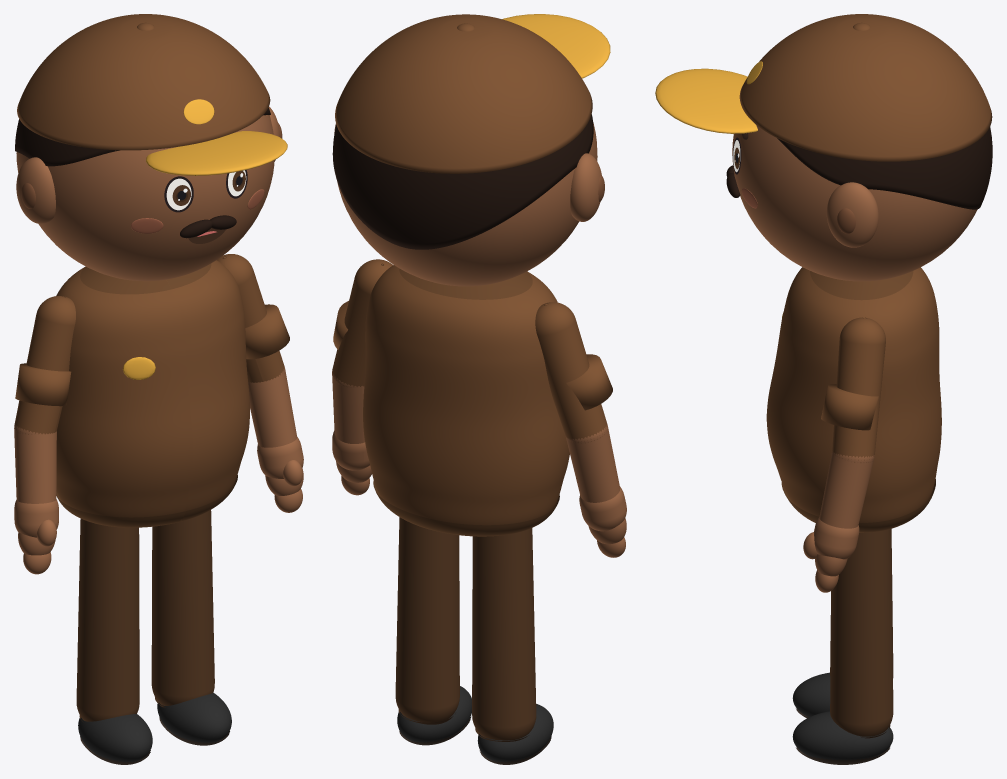
Rendered from bezorger.glb.
3 views of the same model, side by side, from view 1: azimuth 30°, elevation 25°; view 2: azimuth 150°, elevation 25°; view 3: azimuth 270°, elevation 25° (orthographic).
Parts seen in each view (by area): view 1: bezorger_romp, bezorger_pet, bezorger_hoofd, bezorger_been_R, bezorger_been_L, bezorger_pet_klep, bezorger_bovenarm_R, bezorger_onderarm_R, bezorger_schoen_R, bezorger_onderarm_L, bezorger_schoen_L, bezorger_bovenarm_L (+11 smaller); view 2: bezorger_romp, bezorger_pet, bezorger_haar, bezorger_been_R, bezorger_been_L, bezorger_hoofd, bezorger_bovenarm_R, bezorger_pet_klep, bezorger_bovenarm_L, bezorger_onderarm_R, bezorger_schoen_R, bezorger_romp_halsboord (+8 smaller); view 3: bezorger_pet, bezorger_romp, bezorger_hoofd, bezorger_been_L, bezorger_haar, bezorger_pet_klep, bezorger_bovenarm_L, bezorger_schoen_L, bezorger_onderarm_L, bezorger_oor_L, bezorger_mouwzoom_L, bezorger_romp_halsboord (+3 smaller).
Boxes of the visible parts, x1=… form: bezorger_romp: x1=56, y1=260, x2=249, y2=517; bezorger_pet: x1=17, y1=14, x2=270, y2=150; bezorger_hoofd: x1=16, y1=115, x2=274, y2=281; bezorger_been_R: x1=76, y1=519, x2=139, y2=721; bezorger_been_L: x1=151, y1=510, x2=214, y2=705; bezorger_pet_klep: x1=146, y1=131, x2=287, y2=175; bezorger_bovenarm_R: x1=14, y1=296, x2=75, y2=434; bezorger_onderarm_R: x1=14, y1=427, x2=56, y2=503; bezorger_schoen_R: x1=78, y1=714, x2=152, y2=762; bezorger_onderarm_L: x1=248, y1=370, x2=297, y2=447; bezorger_schoen_L: x1=157, y1=693, x2=231, y2=742; bezorger_bovenarm_L: x1=217, y1=254, x2=284, y2=382; bezorger_romp: x1=363, y1=265, x2=569, y2=525; bezorger_pet: x1=335, y1=14, x2=592, y2=173; bezorger_haar: x1=332, y1=114, x2=593, y2=249; bezorger_been_R: x1=472, y1=528, x2=536, y2=740; bezorger_been_L: x1=395, y1=517, x2=459, y2=722; bezorger_hoofd: x1=337, y1=123, x2=597, y2=286; bezorger_bovenarm_R: x1=535, y1=302, x2=607, y2=443; bezorger_pet_klep: x1=502, y1=14, x2=610, y2=78; bezorger_bovenarm_L: x1=332, y1=259, x2=392, y2=386; bezorger_onderarm_R: x1=566, y1=427, x2=620, y2=502; bezorger_schoen_R: x1=477, y1=704, x2=553, y2=762; bezorger_romp_halsboord: x1=399, y1=268, x2=532, y2=299; bezorger_pet: x1=739, y1=14, x2=992, y2=161; bezorger_romp: x1=766, y1=267, x2=941, y2=522; bezorger_hoofd: x1=732, y1=125, x2=977, y2=281; bezorger_been_L: x1=830, y1=529, x2=893, y2=736; bezorger_haar: x1=777, y1=126, x2=992, y2=209; bezorger_pet_klep: x1=655, y1=68, x2=757, y2=133; bezorger_bovenarm_L: x1=832, y1=317, x2=885, y2=462; bezorger_schoen_L: x1=792, y1=711, x2=893, y2=760; bezorger_onderarm_L: x1=819, y1=451, x2=873, y2=528; bezorger_oor_L: x1=826, y1=182, x2=878, y2=247; bezorger_mouwzoom_L: x1=821, y1=384, x2=878, y2=430; bezorger_romp_halsboord: x1=810, y1=271, x2=913, y2=300.
Bounding box in the file's own units: 0.7592 × 1.84 × 0.7821.
